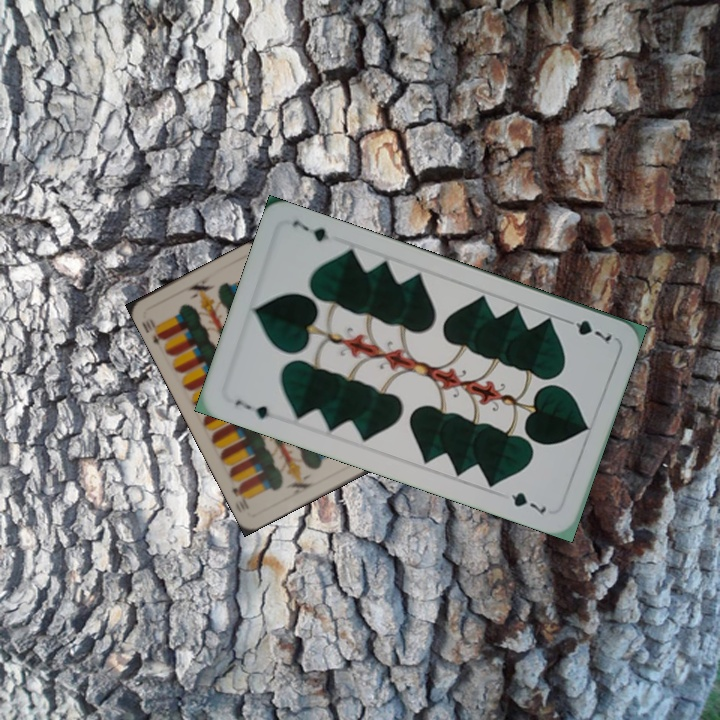E10: (143, 315, 168, 348)
G7: (559, 314, 614, 347), (230, 396, 272, 422)
